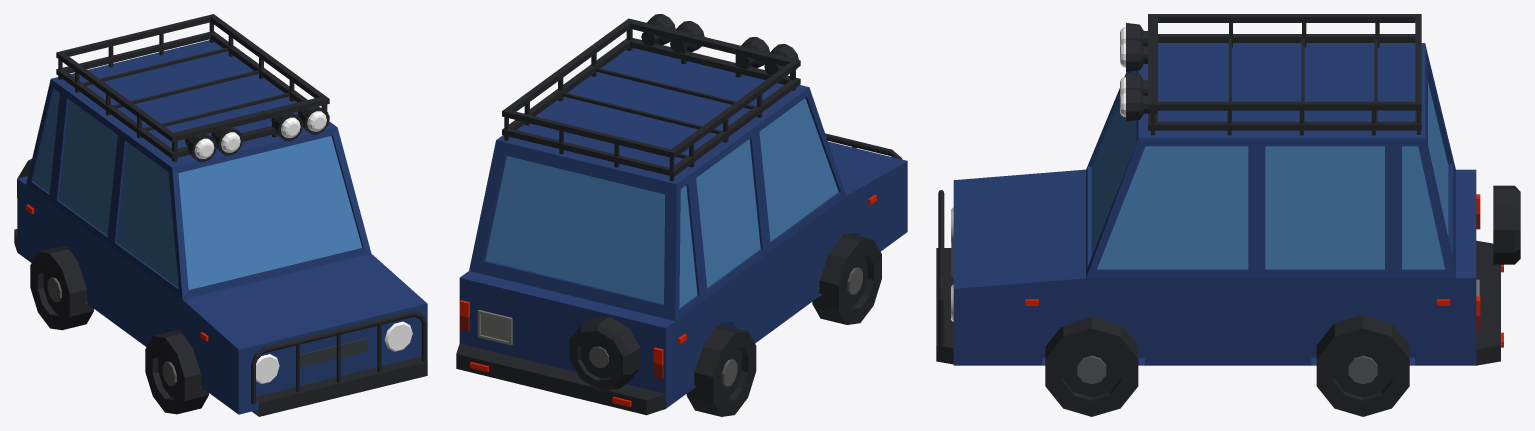
The model's file is Car_3.fbx.
The picture shows the model from 3 angles, left to right: view 1: azimuth 30°, elevation 25°; view 2: azimuth 150°, elevation 25°; view 3: azimuth 270°, elevation 25°; orthographic projection. The views are drawn at different scales.
Visible parts, largest first — view 1: Car_3; view 2: Car_3; view 3: Car_3.
Part boxes in pixels (x1=…): Car_3: x1=14, y1=14, x2=427, y2=416; Car_3: x1=456, y1=14, x2=907, y2=416; Car_3: x1=936, y1=14, x2=1520, y2=416.
Size of the model in its own units: 178 by 198 by 351.
